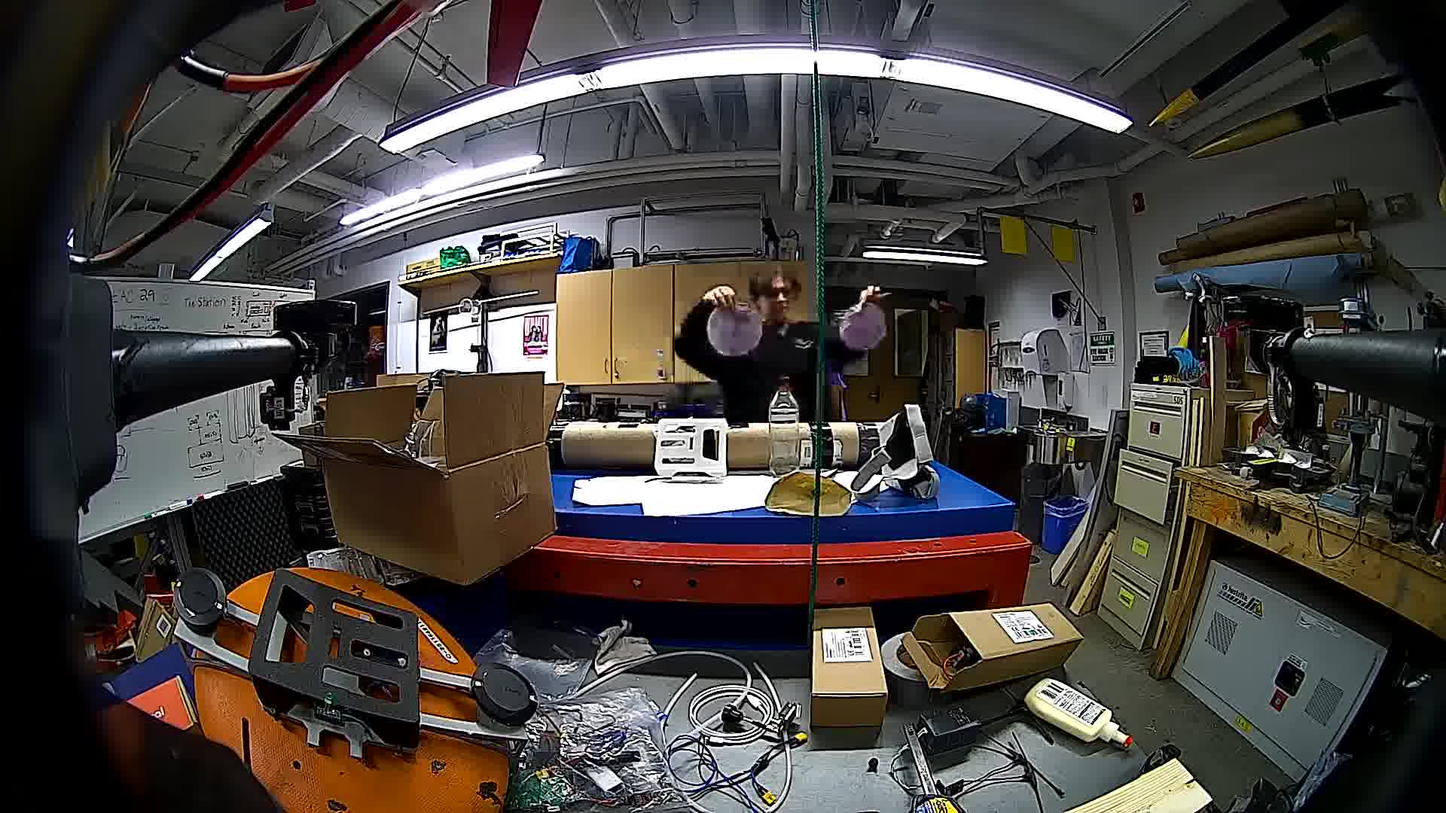Target: (708, 305, 759, 357), (841, 304, 886, 350)
